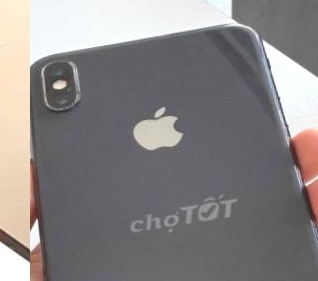scratch: (72, 63, 90, 101), (30, 63, 39, 79)
